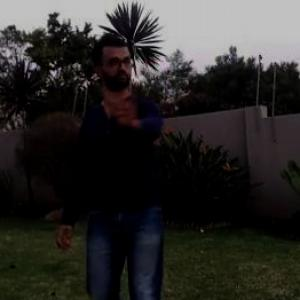takeoff-hand: (100, 85, 138, 129)
